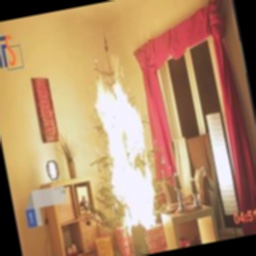fire: (78, 63, 182, 248)
